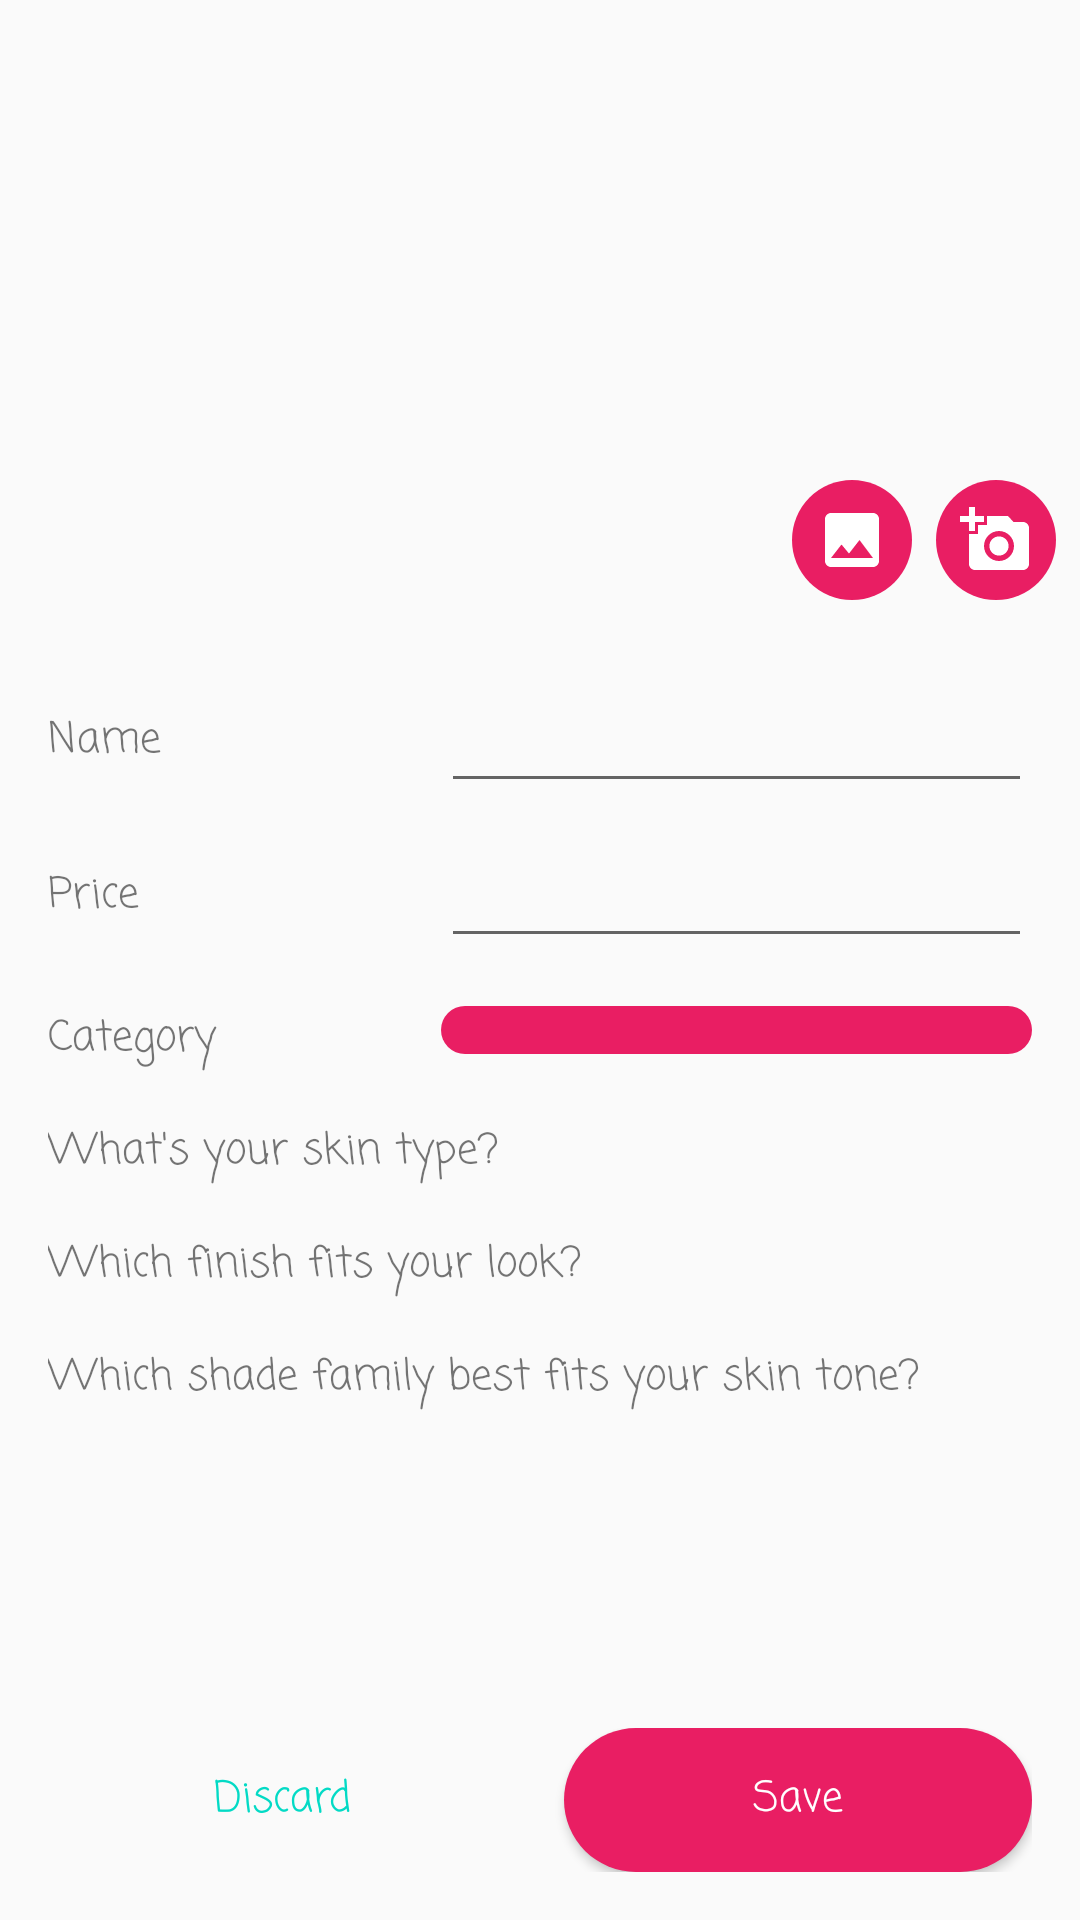

Icon click points for this 1080*1920 phone screenshot, format (x=x, y=y):
add photo: (x=996, y=540)
